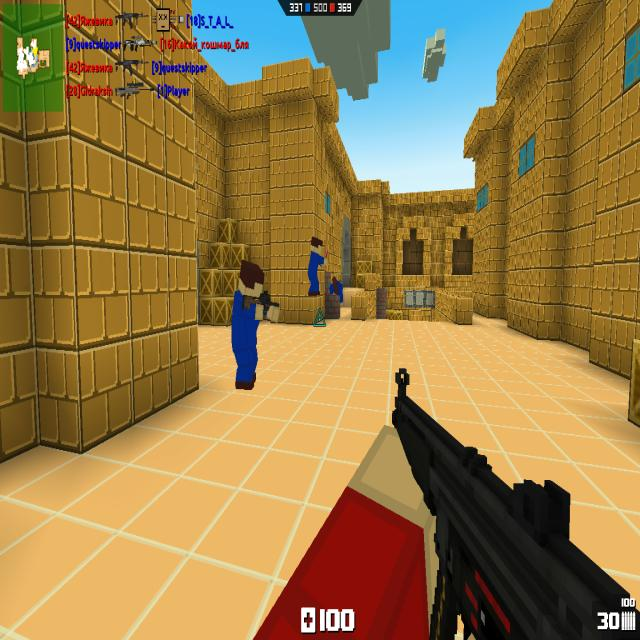enemy: (230, 255, 280, 390), (307, 235, 327, 298)
